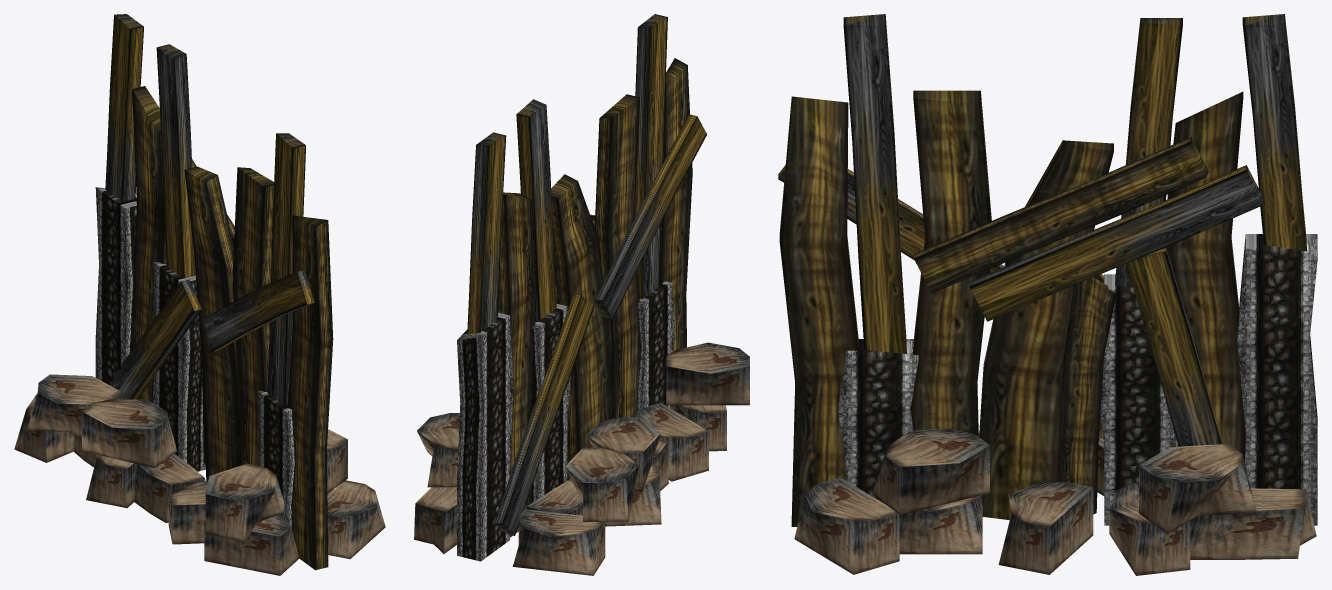
File: CB_WOOD_BARACADE03.fbx
The picture shows the model from 3 angles, left to right: view 1: azimuth 30°, elevation 25°; view 2: azimuth 150°, elevation 25°; view 3: azimuth 270°, elevation 25°; orthographic projection. The views are drawn at different scales.
Parts seen in each view (by area): view 1: CB_WOOD_BARACADE03; view 2: CB_WOOD_BARACADE03; view 3: CB_WOOD_BARACADE03.
Boxes of the visible parts, x1,y1,x2,y2 form: CB_WOOD_BARACADE03: (14, 14, 385, 575); CB_WOOD_BARACADE03: (414, 14, 749, 575); CB_WOOD_BARACADE03: (778, 14, 1317, 575).
Bounding box in the file's own units: 21419 × 37605 × 36439.
4 materials, 4 textured.
